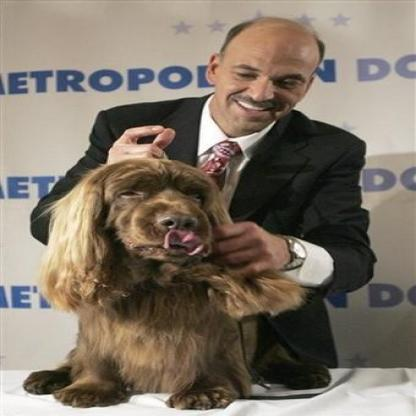Sussex_spaniel: (20, 158, 304, 408)
